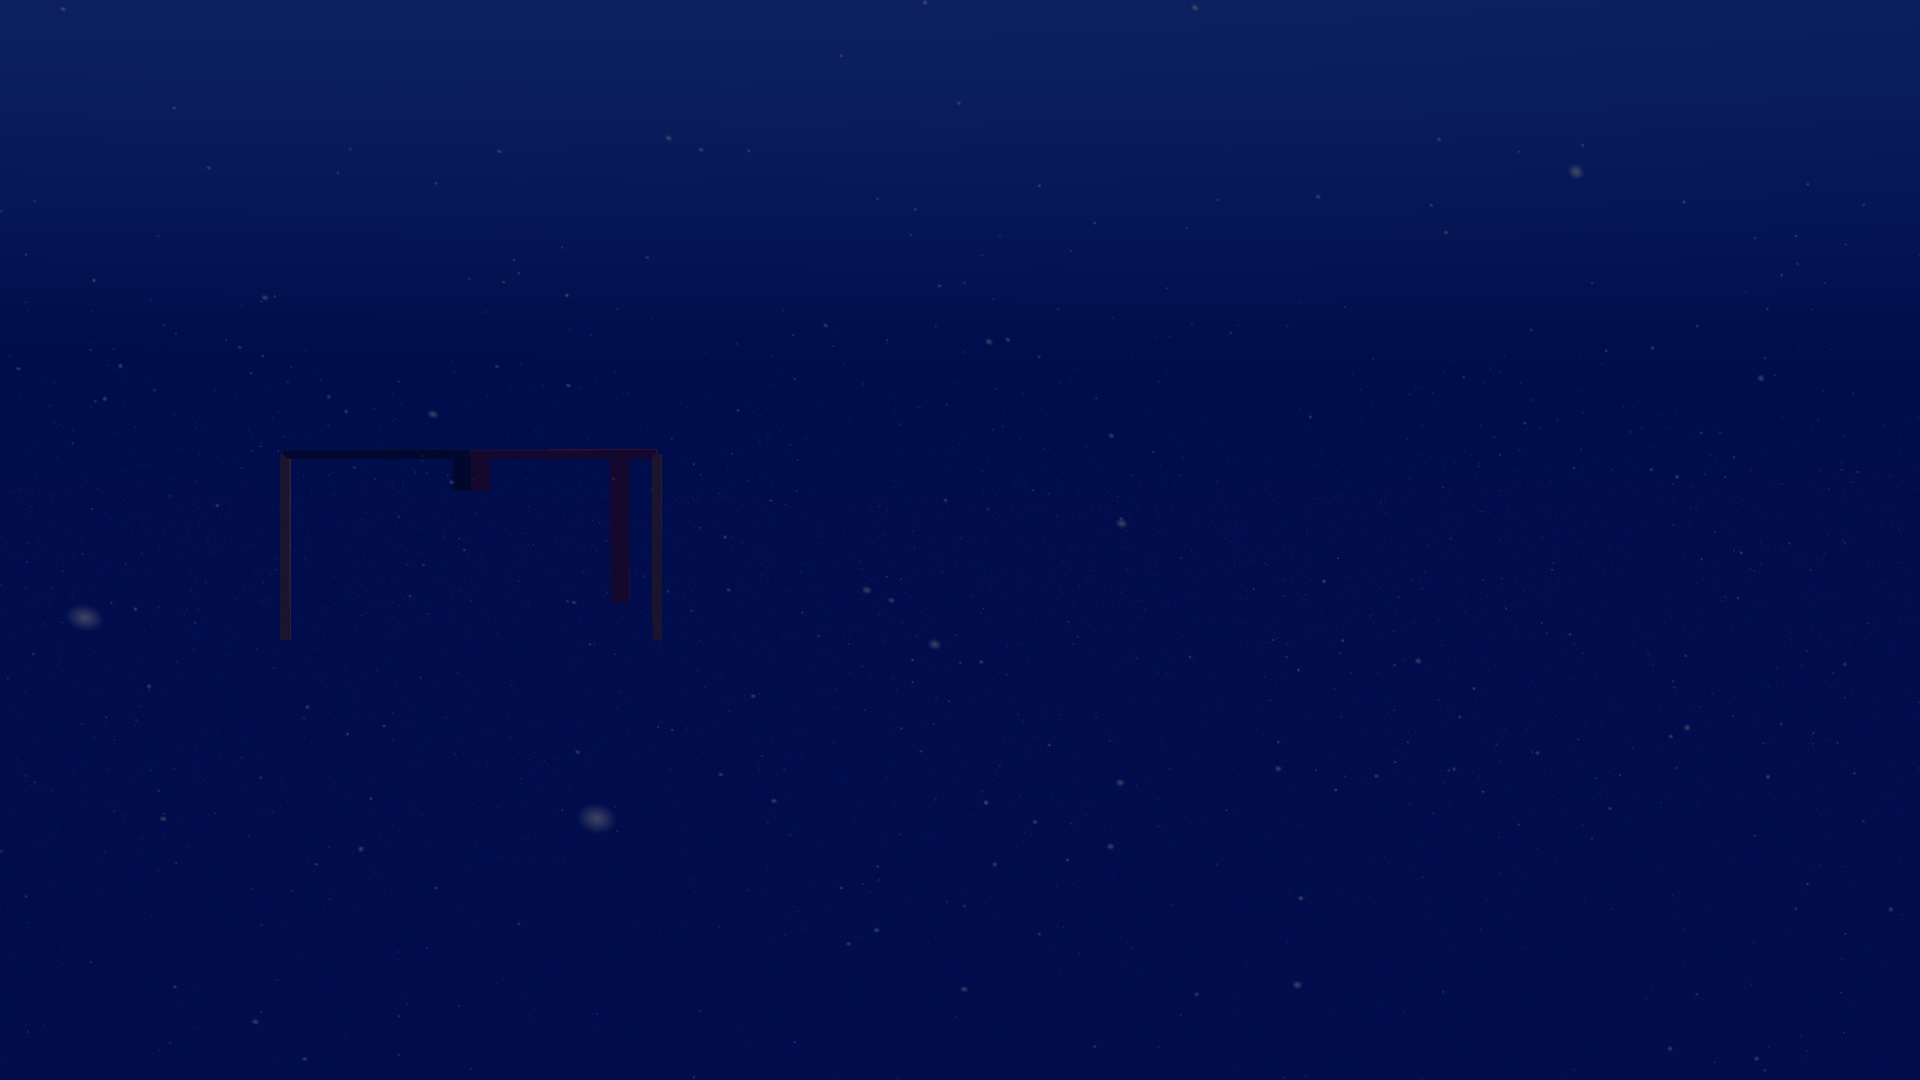Gate: (268, 435, 673, 655)
